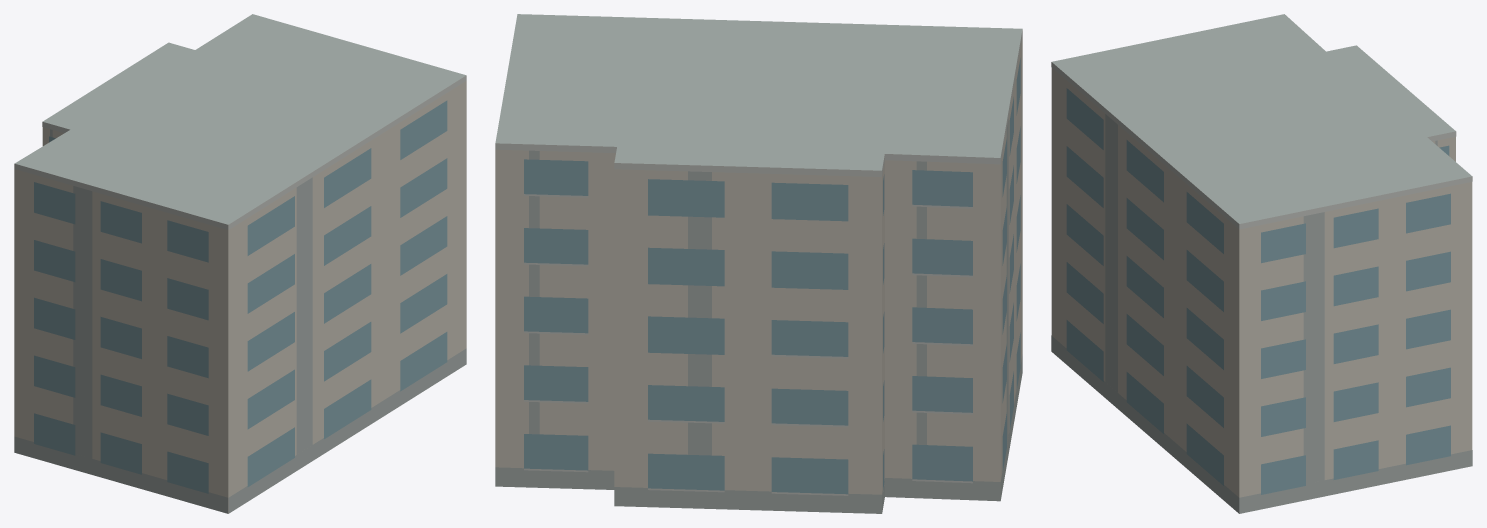
Rendered from survey-upis-32740661.glb.
The picture shows the model from 3 angles, left to right: view 1: azimuth 30°, elevation 25°; view 2: azimuth 150°, elevation 25°; view 3: azimuth 270°, elevation 25°; orthographic projection. The views are drawn at different scales.
Parts seen in each view (by area): view 1: survey-upis-32740661.tmp; view 2: survey-upis-32740661.tmp; view 3: survey-upis-32740661.tmp.
Boxes of the visible parts, x1=… form: survey-upis-32740661.tmp: x1=14, y1=14, x2=466, y2=513; survey-upis-32740661.tmp: x1=495, y1=14, x2=1022, y2=513; survey-upis-32740661.tmp: x1=1051, y1=14, x2=1472, y2=513.
Bounding box in the file's own units: 20.54 × 13.2 × 17.39.
